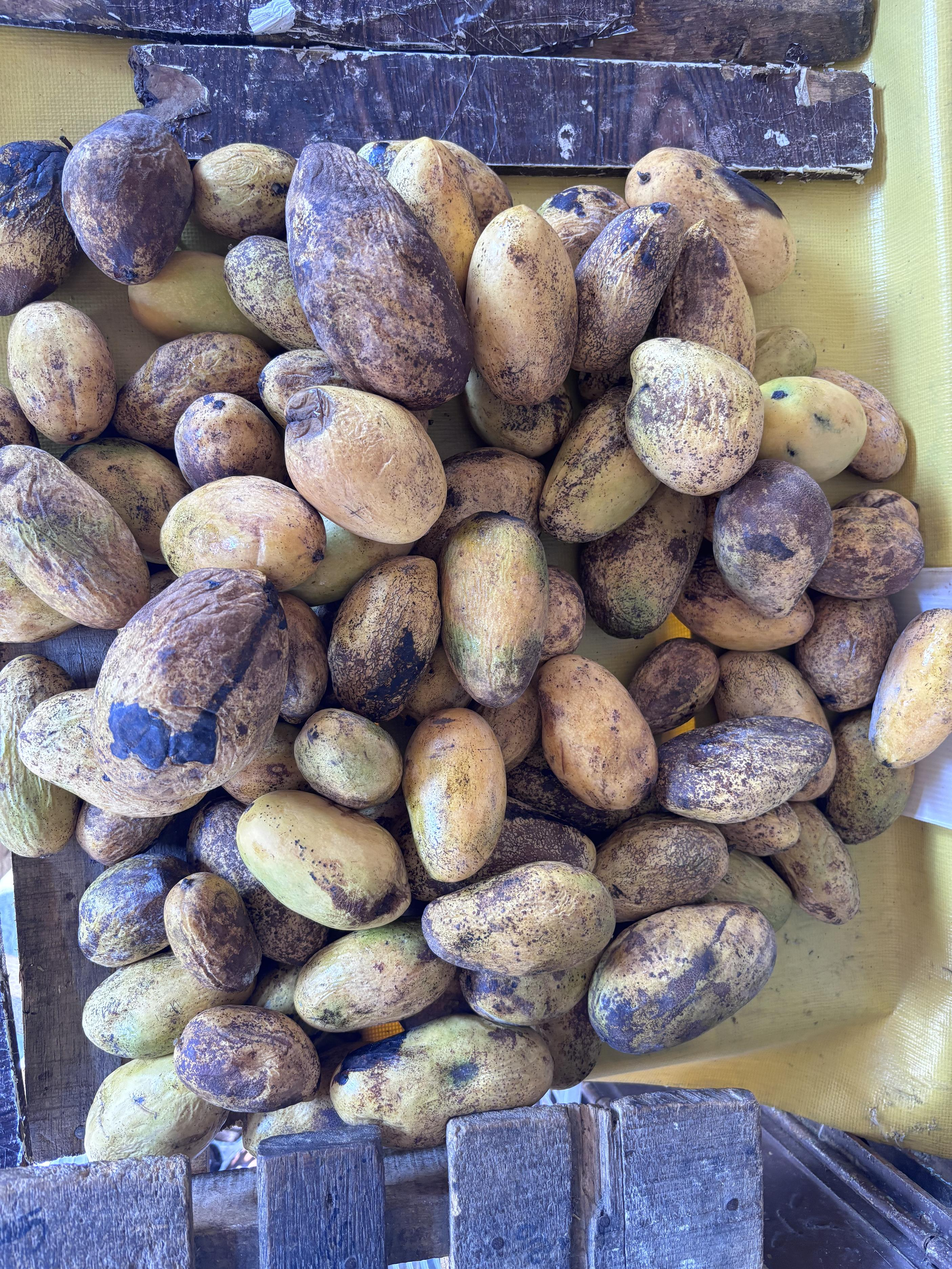mango: (286, 143, 473, 409), (92, 568, 288, 795), (589, 903, 776, 1054), (285, 385, 446, 544), (237, 791, 411, 930), (62, 112, 193, 284), (422, 862, 615, 976), (466, 206, 577, 404), (626, 338, 764, 495), (439, 512, 549, 707), (713, 459, 833, 618), (538, 654, 657, 810), (329, 557, 441, 722), (403, 709, 506, 882), (7, 302, 116, 445), (175, 1006, 320, 1113), (164, 872, 261, 992), (295, 709, 402, 809)
occluded: (330, 1014, 552, 1148), (0, 446, 149, 628), (625, 147, 795, 294), (187, 798, 329, 966), (19, 689, 200, 816), (579, 485, 705, 639), (571, 202, 685, 372), (404, 799, 595, 900), (655, 716, 832, 824), (161, 475, 325, 590), (539, 387, 659, 542), (113, 332, 269, 448), (83, 953, 254, 1058), (294, 921, 455, 1032), (63, 437, 190, 563), (0, 655, 79, 857), (128, 251, 278, 350), (84, 1056, 226, 1160), (657, 220, 755, 369), (594, 814, 728, 922), (417, 448, 545, 560), (389, 138, 480, 294), (0, 141, 78, 315), (869, 609, 952, 768), (673, 557, 813, 651), (820, 710, 914, 844), (79, 855, 187, 967), (795, 595, 897, 712), (758, 376, 867, 482), (174, 393, 289, 488), (812, 368, 907, 480), (224, 236, 318, 349), (773, 803, 859, 924), (810, 508, 924, 599), (193, 142, 295, 239), (464, 367, 572, 457), (460, 957, 597, 1027), (714, 651, 830, 733), (629, 638, 718, 732), (539, 184, 628, 269), (222, 722, 309, 806), (700, 851, 792, 930), (0, 561, 77, 643), (280, 593, 328, 724), (535, 996, 602, 1089), (443, 142, 512, 230), (77, 804, 174, 866), (243, 1095, 343, 1155), (477, 683, 541, 772), (402, 640, 471, 722), (540, 566, 586, 662), (834, 490, 918, 529), (791, 748, 836, 801), (0, 386, 38, 447), (358, 141, 409, 176)
